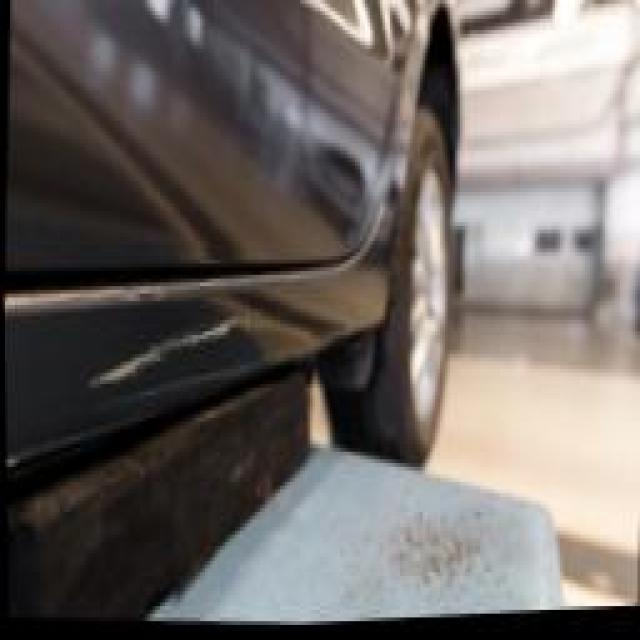Door: (50, 216, 302, 444)
